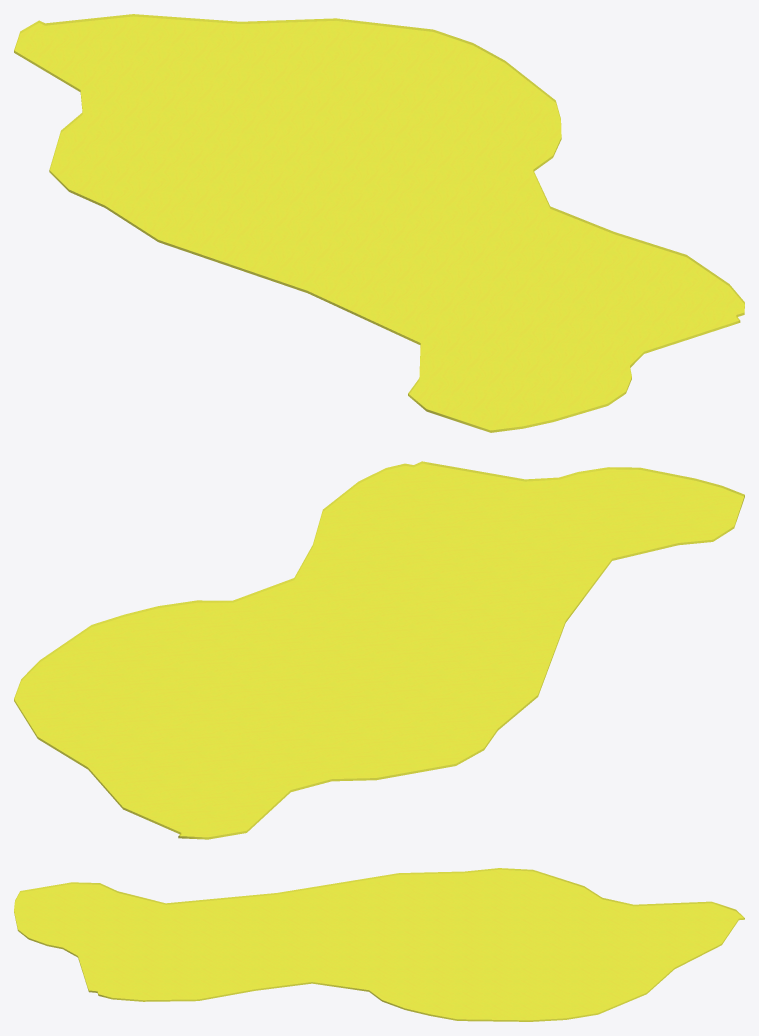
The model's file is BurnableSubstance.fbx.
3 views of the same model, one above another, from view 1: azimuth 30°, elevation 25°; view 2: azimuth 150°, elevation 25°; view 3: azimuth 270°, elevation 25° (orthographic). The views are drawn at different scales.
Visible parts, largest first — view 1: Model; view 2: Model; view 3: Model.
Boxes of the visible parts, x1,y1,x2,y2 form: Model: [14, 14, 744, 432]; Model: [14, 461, 744, 839]; Model: [14, 868, 744, 1021].
Size of the model in its own units: 297 by 1.5 by 603.
